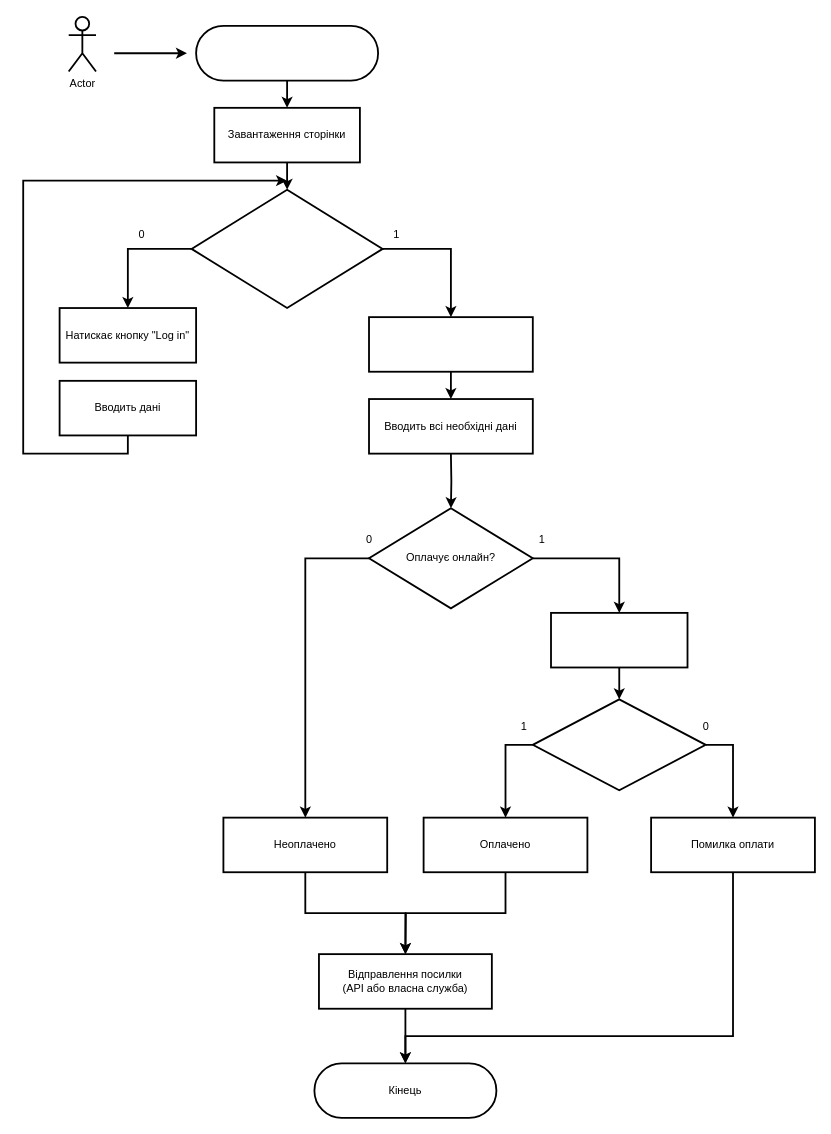
The diagram is 831 pixels wide and 1134 high, and some of its shapes have lost their labels. Here are the shapes that lost their labels. From the top down, the box of each, then its label:
(195, 25, 379, 81): Оформлення замовлення
(190, 188, 383, 308): Авторизований?
(368, 316, 533, 372): Відкривання форми для замовлення
(550, 612, 688, 668): E-pay API
(531, 698, 706, 791): Операція успішна?
